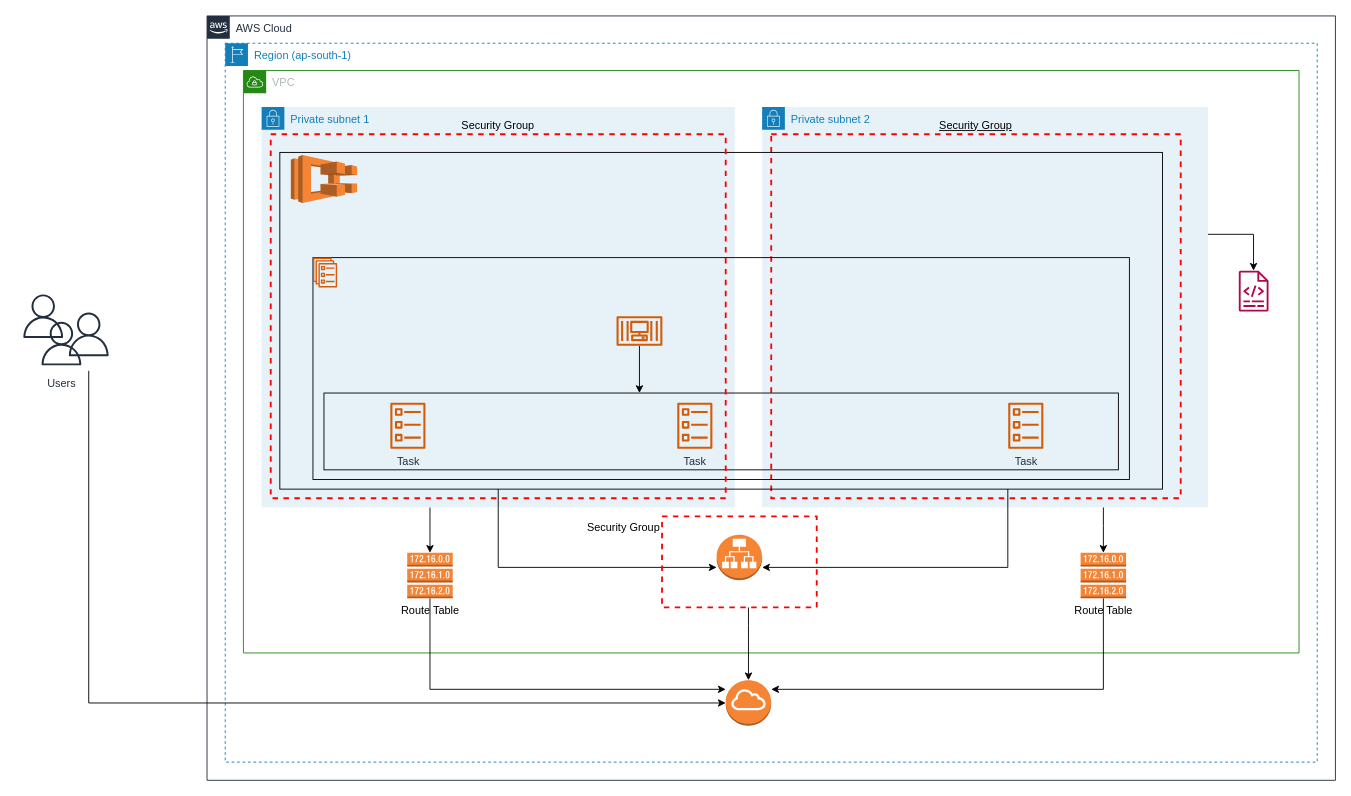
Some shapes in this 1351 by 796 pixel diagram are drawn without their labels. Here are the shapes that lost their labels. From the top down, the centre of each, then its label:
the point at 323,178: ECS Cluster
the point at 324,272: ECS Service
the point at 1253,290: Cloudwatch Log Group
the point at 639,330: Container
the point at 739,557: Applicaition Load Balancer
the point at 748,702: Internet Gateway
